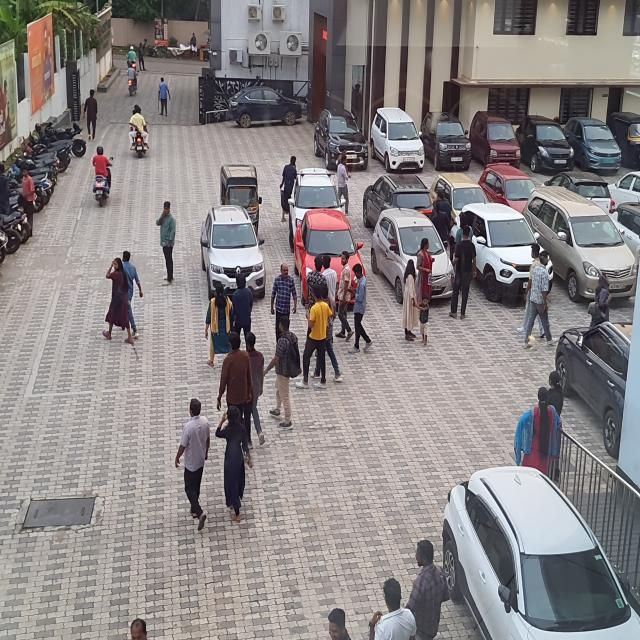humans: (172, 395, 215, 533), (212, 404, 255, 527), (406, 538, 454, 640), (263, 316, 300, 431), (512, 385, 561, 467), (99, 257, 138, 355), (521, 249, 556, 352), (120, 247, 156, 347), (244, 330, 274, 450), (295, 284, 328, 393), (365, 579, 419, 640), (154, 197, 188, 292), (216, 330, 252, 413), (448, 223, 478, 322), (320, 284, 348, 384), (348, 261, 374, 356), (203, 283, 229, 367), (19, 166, 46, 242), (270, 262, 297, 336), (336, 249, 357, 343), (230, 271, 260, 335), (587, 268, 616, 326), (276, 152, 299, 225), (82, 86, 109, 146), (401, 258, 419, 345), (524, 245, 540, 336), (336, 151, 356, 216), (323, 600, 354, 640), (416, 237, 435, 300), (128, 104, 153, 151), (304, 256, 324, 308), (92, 144, 119, 182), (546, 367, 569, 411), (414, 295, 433, 347), (323, 254, 341, 303), (431, 200, 451, 242), (156, 77, 174, 120), (1, 159, 12, 216), (454, 212, 474, 242), (138, 42, 150, 72), (190, 32, 202, 61), (435, 190, 452, 210), (128, 43, 139, 68), (125, 63, 140, 80), (337, 148, 347, 164)
